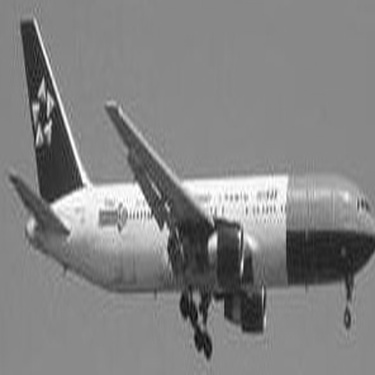airplane: (1, 10, 368, 339)
